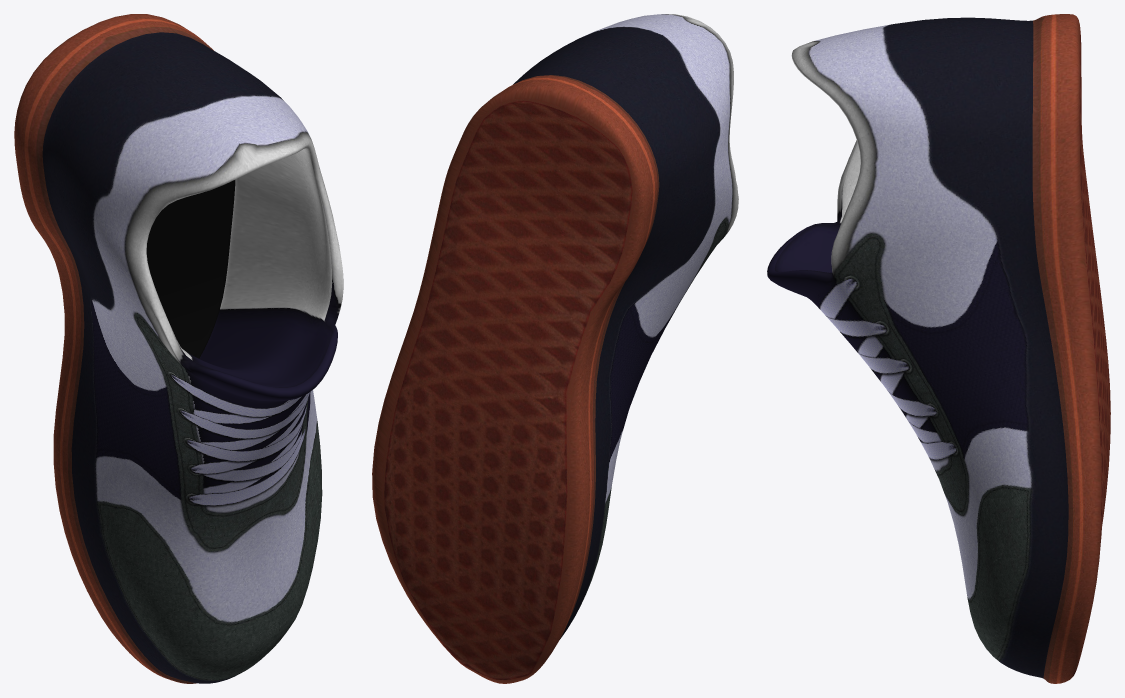
Rendered from shoe.fbx.
3 views of the same model, side by side, from view 1: azimuth 30°, elevation 25°; view 2: azimuth 150°, elevation 25°; view 3: azimuth 270°, elevation 25° (orthographic). The views are drawn at different scales.
Parts seen in each view (by area): view 1: 10149_RunningShoe_v02_L3; view 2: 10149_RunningShoe_v02_L3; view 3: 10149_RunningShoe_v02_L3.
Boxes of the visible parts, box(x1,y1,x2,y2) form: 10149_RunningShoe_v02_L3: box(14, 14, 343, 683); 10149_RunningShoe_v02_L3: box(372, 14, 738, 683); 10149_RunningShoe_v02_L3: box(767, 14, 1110, 683).
Size of the model in its own units: 1410 by 3118 by 1557.
